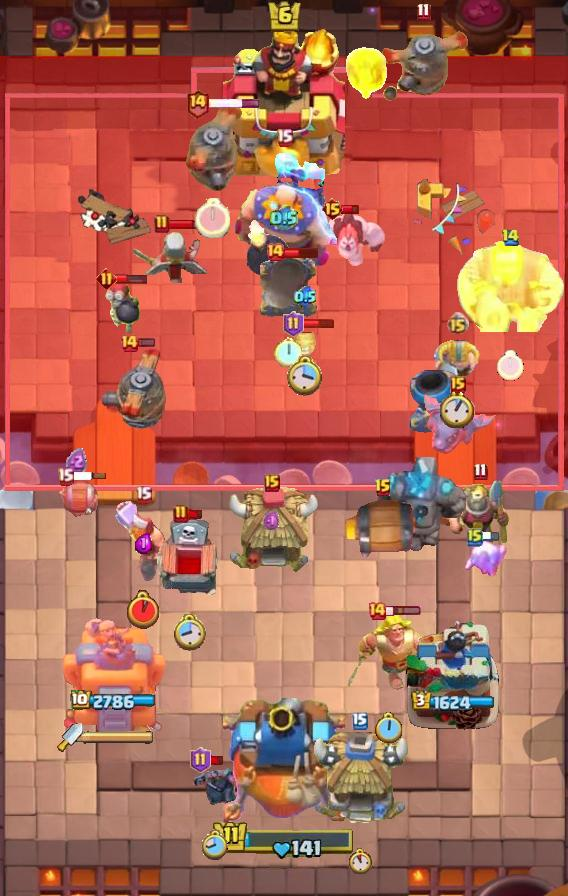baby-dragon: (246, 217, 292, 276)
bandit: (447, 479, 513, 547)
bar: (61, 615, 166, 731)
battle-ram: (190, 759, 240, 813)
cannoneer-tower: (374, 457, 470, 555)
clock: (212, 819, 356, 861)
dark-prince: (378, 19, 468, 105), (167, 107, 257, 193), (97, 346, 187, 430)
electro-spirit: (270, 206, 298, 231), (66, 448, 87, 476), (294, 286, 316, 308), (263, 510, 281, 532), (135, 533, 153, 555)
elixir: (287, 356, 323, 397), (194, 198, 229, 238), (173, 614, 207, 652), (440, 391, 474, 428), (127, 591, 159, 630), (376, 712, 405, 744), (274, 336, 302, 367), (203, 829, 230, 861), (496, 350, 523, 381), (347, 849, 373, 876)
elixir-golem-mid: (154, 518, 224, 604)
emote: (208, 98, 261, 109), (283, 245, 320, 259), (386, 605, 423, 617), (169, 218, 204, 230), (113, 273, 146, 285), (301, 318, 335, 329), (71, 471, 107, 481), (340, 204, 359, 216), (480, 530, 500, 541), (136, 336, 155, 347), (187, 509, 204, 520), (208, 754, 225, 765)
giant-skeleton: (455, 238, 565, 332)
goblin-giant: (433, 339, 481, 382)
goblin-hut: (343, 612, 435, 696)
graveyard: (419, 391, 497, 455)
ice-golem: (103, 278, 141, 334)
ice-spirit-evolution: (294, 327, 316, 357)
king-tower: (223, 27, 345, 181), (223, 698, 345, 826)
king-tower-bar: (83, 730, 155, 744)
knight: (51, 478, 101, 522)
little-prince: (231, 146, 337, 274)
mighty-miner: (115, 498, 171, 584)
mirror: (460, 539, 510, 577)
musketeer: (256, 254, 320, 320), (409, 369, 469, 433)
poison: (130, 225, 216, 297)
prince: (309, 732, 411, 828), (225, 485, 319, 575)
queen-tower: (404, 617, 502, 731)
rage: (306, 211, 388, 269)
selected: (70, 690, 157, 712), (411, 690, 495, 712)
text: (186, 88, 211, 119), (320, 197, 343, 221), (446, 312, 469, 336), (284, 311, 305, 337), (190, 747, 211, 773), (96, 267, 117, 289), (265, 242, 285, 262), (119, 333, 139, 353), (367, 601, 387, 621), (374, 478, 392, 498), (500, 229, 519, 247), (135, 484, 153, 503), (275, 129, 293, 147), (57, 467, 75, 485), (154, 214, 170, 234), (173, 504, 189, 524), (467, 527, 483, 547), (450, 376, 466, 394), (264, 474, 280, 492), (352, 712, 368, 730), (472, 463, 487, 482), (417, 3, 431, 21)
the-log: (343, 500, 423, 560)
valkyrie: (342, 44, 393, 106)
